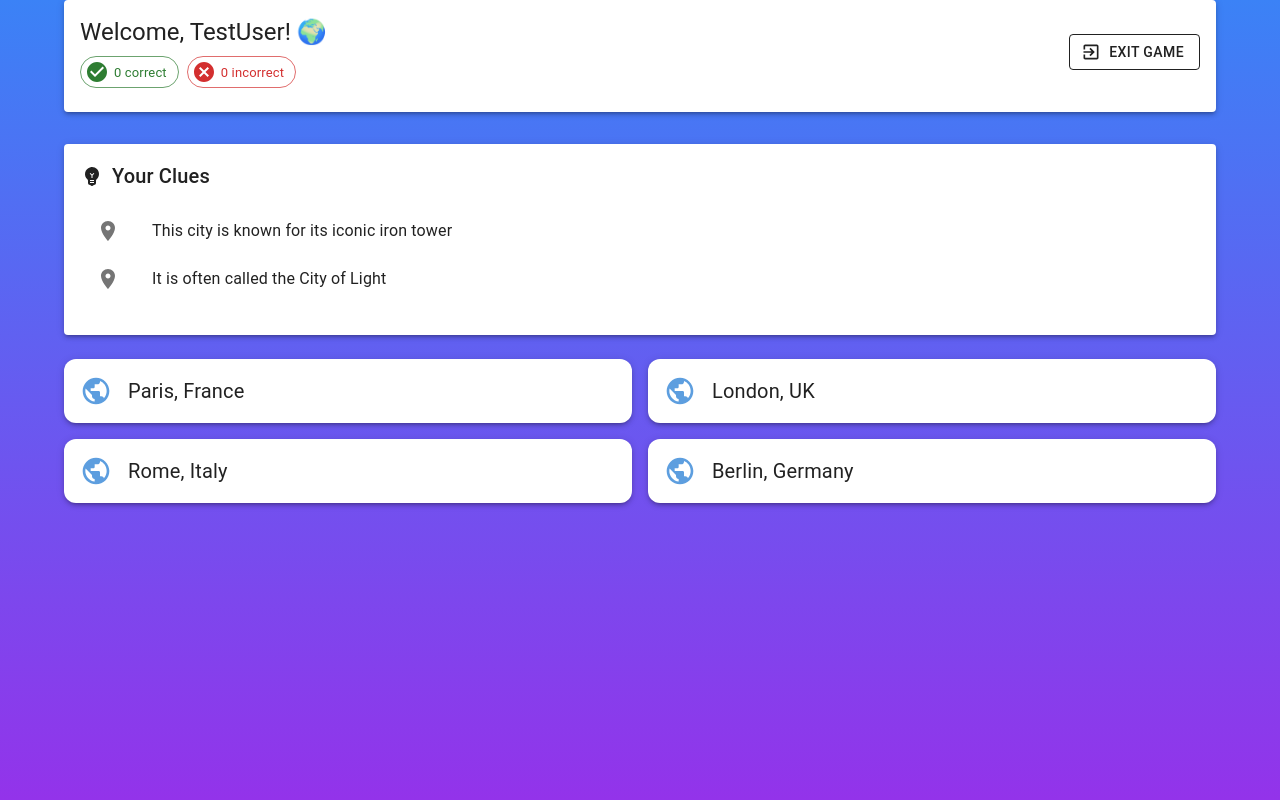
Game Component › handles incorrect answer selection
Click the heading "London, UK". click: (763, 391)
box: left=712, top=375, right=815, bottom=407
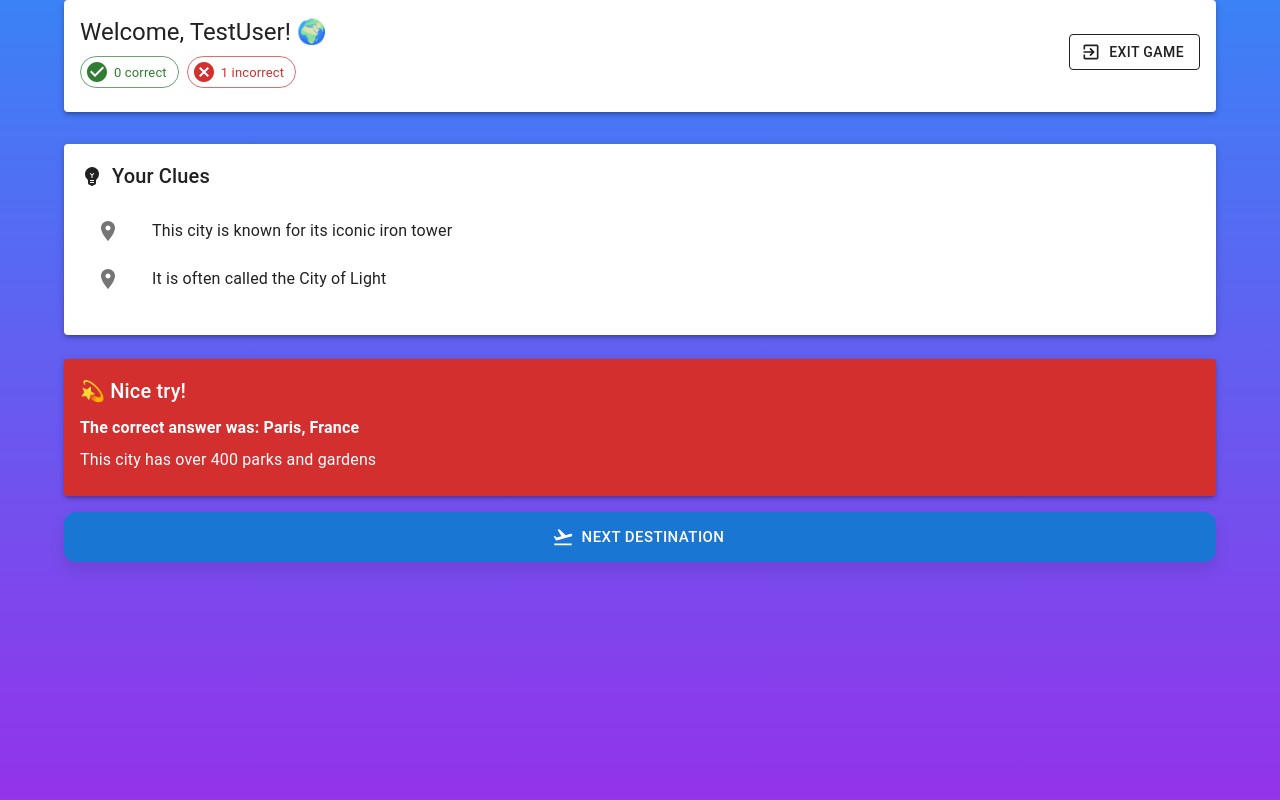
Expected: the heading "💫 Nice try!" is shown, left=80, top=379, right=186, bottom=403
